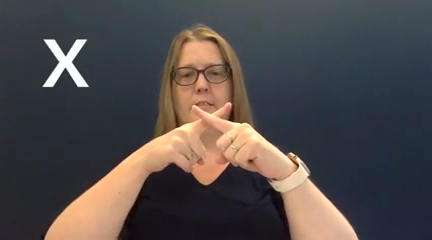X: (142, 102, 276, 187)
